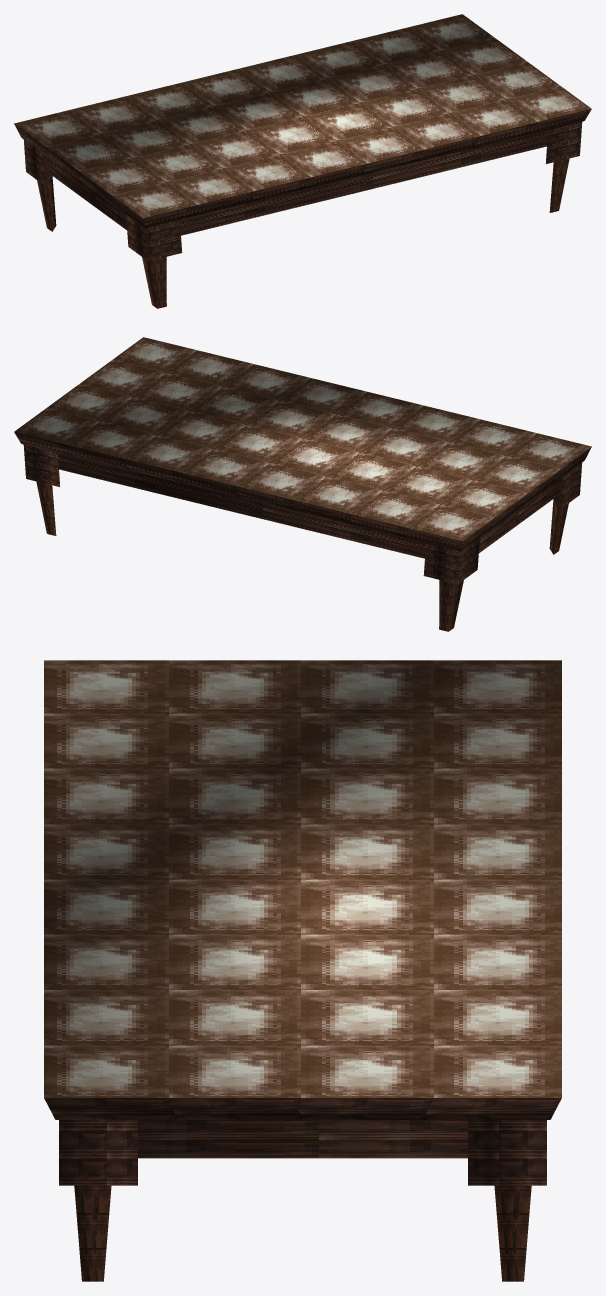
File: 3173IMFY05_05.gltf
3 renders of one model, top to bottom at view 1: azimuth 30°, elevation 25°; view 2: azimuth 150°, elevation 25°; view 3: azimuth 270°, elevation 25°, orthographic. The views are drawn at different scales.
Parts seen in each view (by area): view 1: 3173IMFY05_05; view 2: 3173IMFY05_05; view 3: 3173IMFY05_05.
Part boxes in pixels (x1,y1,x2,y2): 3173IMFY05_05: [14, 14, 591, 308]; 3173IMFY05_05: [14, 337, 591, 631]; 3173IMFY05_05: [44, 660, 561, 1281].
Bounding box in the file's own units: 2 × 0.4399 × 1.
3 materials, 3 textured.
